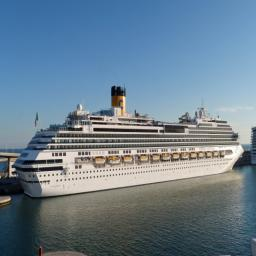cruises: (14, 84, 246, 202)
